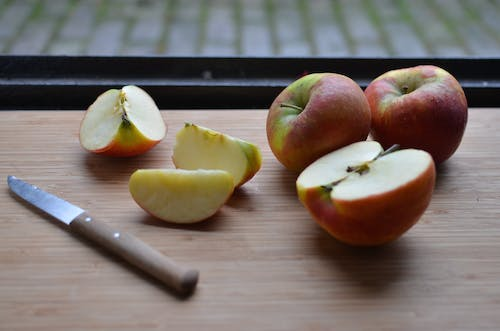knife: (6, 173, 201, 298)
